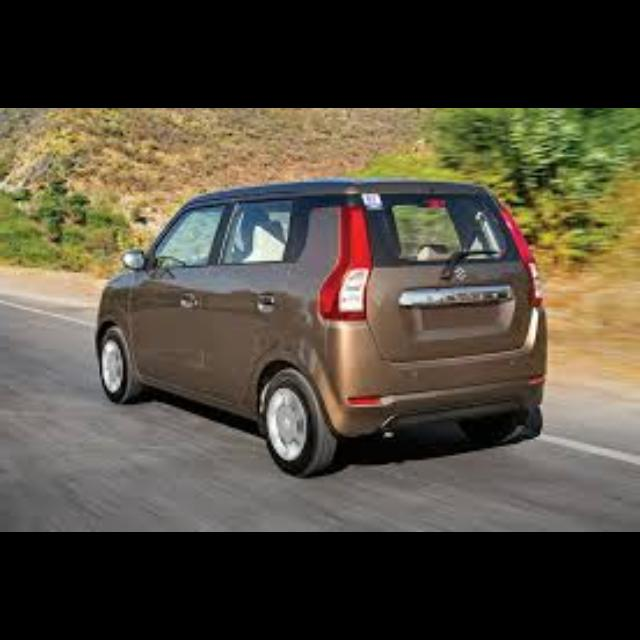vehicles: (84, 172, 568, 483)
